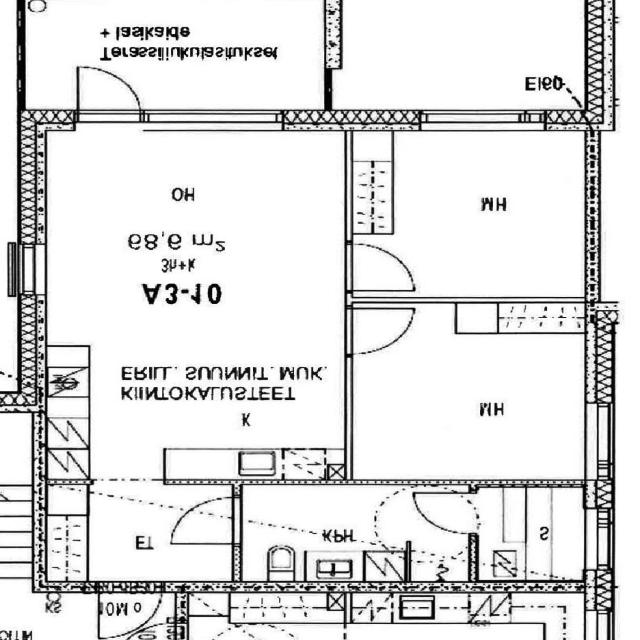door: (78, 64, 141, 130), (100, 580, 162, 638), (171, 497, 243, 543), (346, 244, 417, 290), (346, 307, 416, 353), (414, 492, 479, 533)
